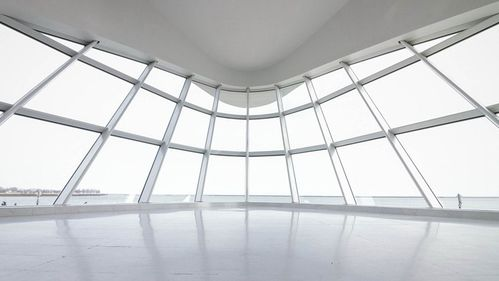buildings: (1, 52, 499, 234)
